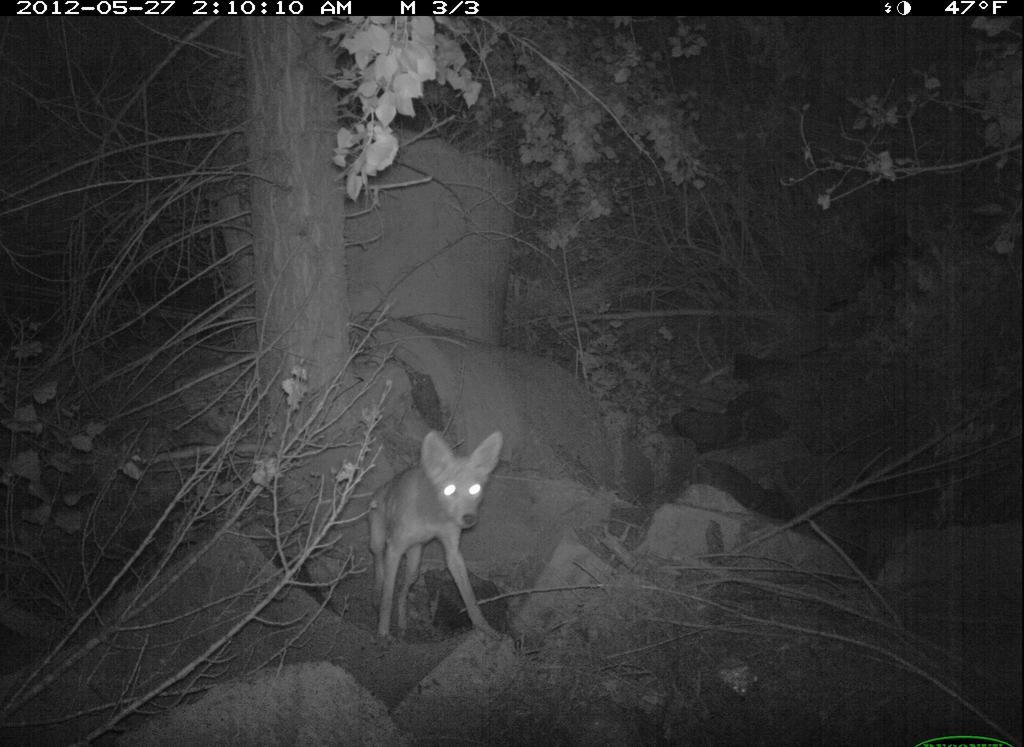coyote: (364, 427, 519, 653)
